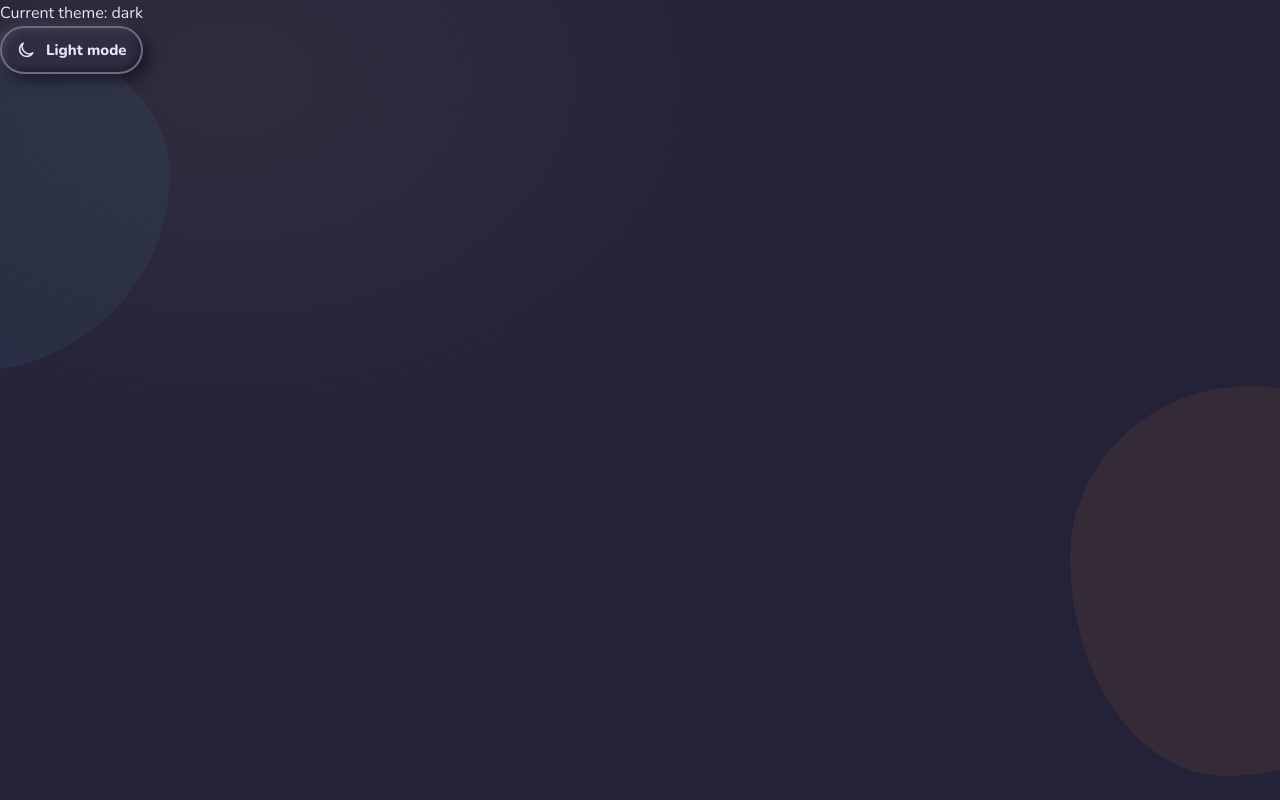
Theme provider persistence and system preference › follows system theme changes until the user chooses a theme
Expected: the text "Current theme: dark" is shown, left=0, top=2, right=143, bottom=24
Click the button with aria-label "Switch to light mode". click: (71, 50)
box: left=0, top=26, right=143, bottom=74
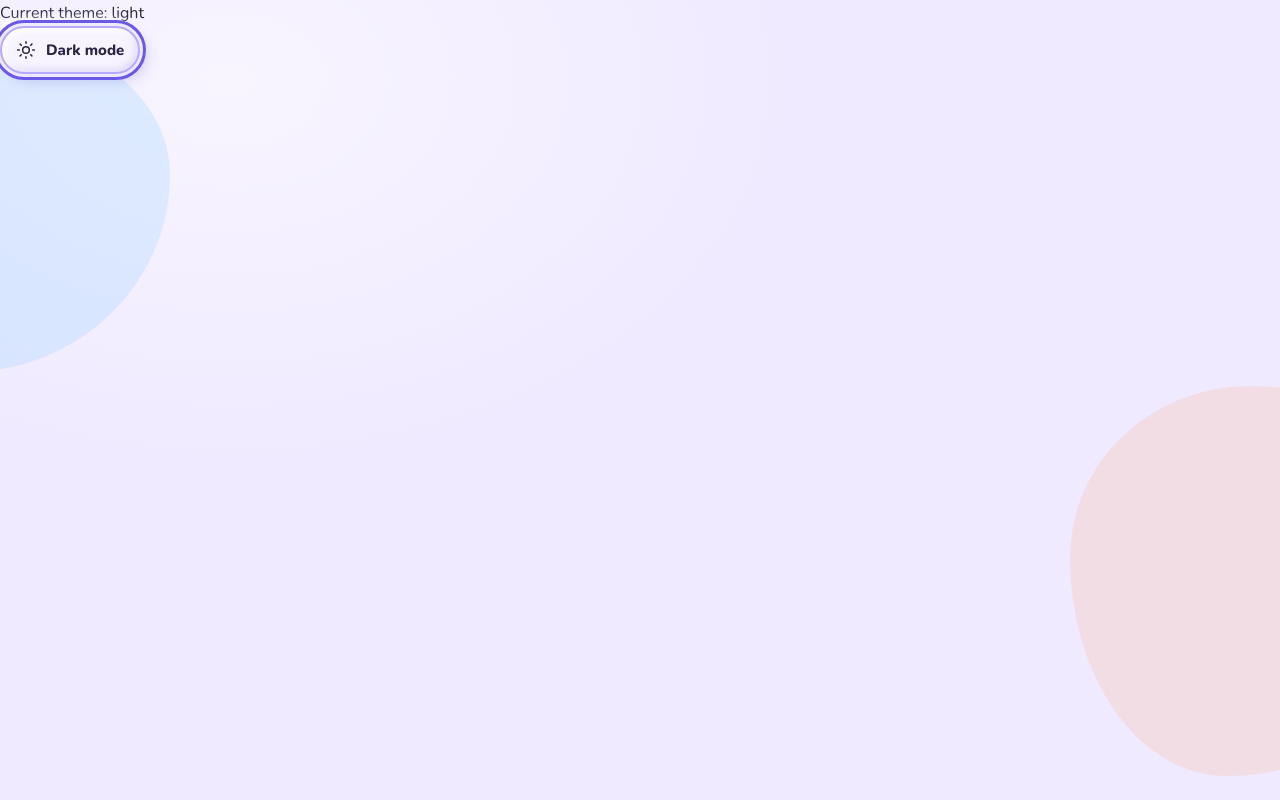
Now the text "Current theme: light" is shown, box left=0, top=2, right=144, bottom=24
